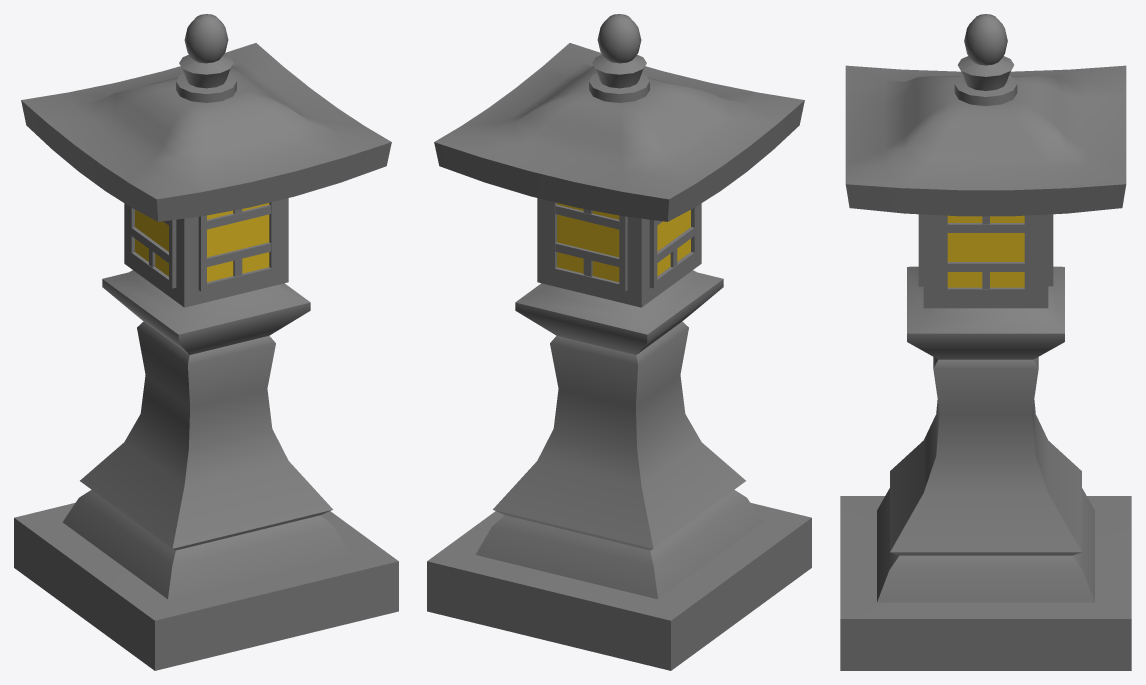
The model's file is SM_stonelantern_02.fbx.
3 views of the same model, side by side, from view 1: azimuth 30°, elevation 25°; view 2: azimuth 150°, elevation 25°; view 3: azimuth 270°, elevation 25° (orthographic). The views are drawn at different scales.
Visible parts, largest first — view 1: Box342; view 2: Box342; view 3: Box342.
Boxes of the visible parts, bbox=[...] form: Box342: bbox=[14, 14, 398, 670]; Box342: bbox=[427, 14, 811, 670]; Box342: bbox=[840, 14, 1131, 670].
Size of the model in its own units: 24.39 by 54.88 by 24.39.
